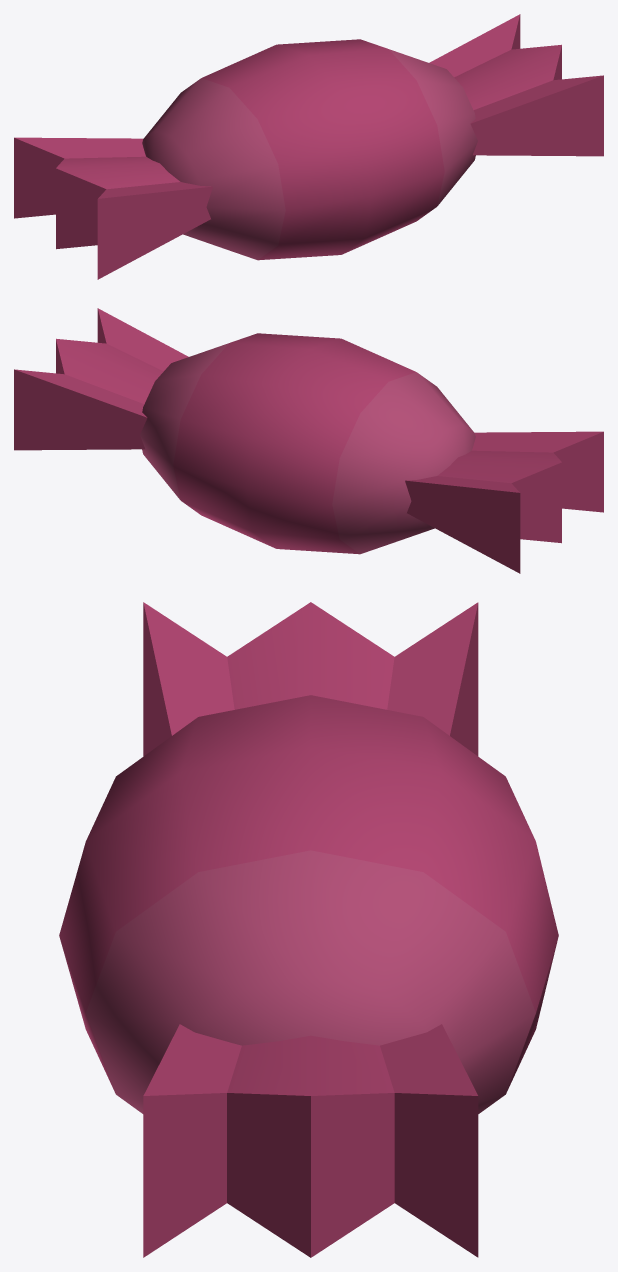
File: pink_candy.fbx
3 renders of one model, top to bottom at view 1: azimuth 30°, elevation 25°; view 2: azimuth 150°, elevation 25°; view 3: azimuth 270°, elevation 25°, orthographic. The views are drawn at different scales.
Parts seen in each view (by area): view 1: Candy.002; view 2: Candy.002; view 3: Candy.002.
Part boxes in pixels (left/top/right/bottom): Candy.002: left=14, top=14, right=603, bottom=279; Candy.002: left=14, top=308, right=603, bottom=573; Candy.002: left=59, top=602, right=558, bottom=1257.
Size of the model in its own units: 0.946 by 0.4043 by 0.3357.
